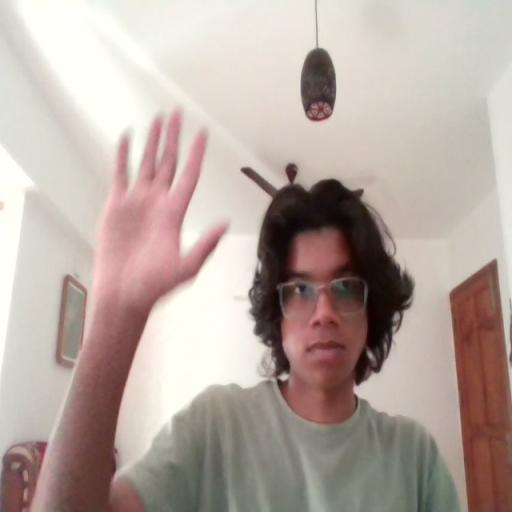Paper: (96, 103, 228, 300)
